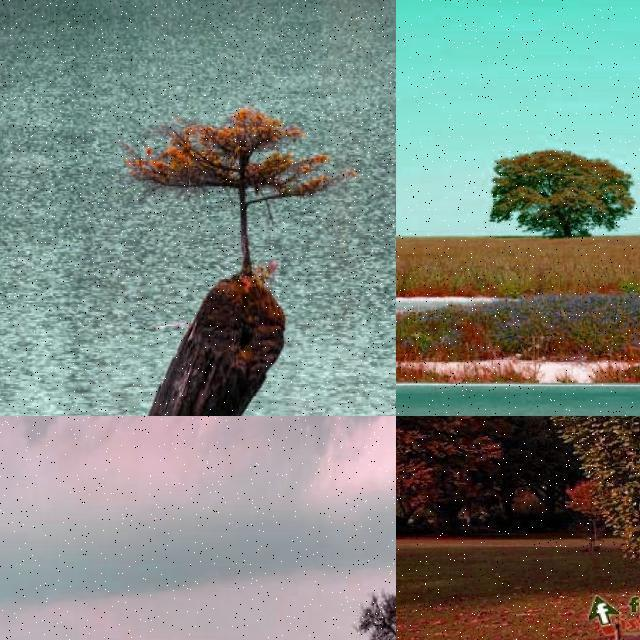tree: (135, 108, 333, 282), (492, 416, 640, 640), (396, 416, 580, 544), (492, 146, 626, 236), (348, 583, 396, 640)
